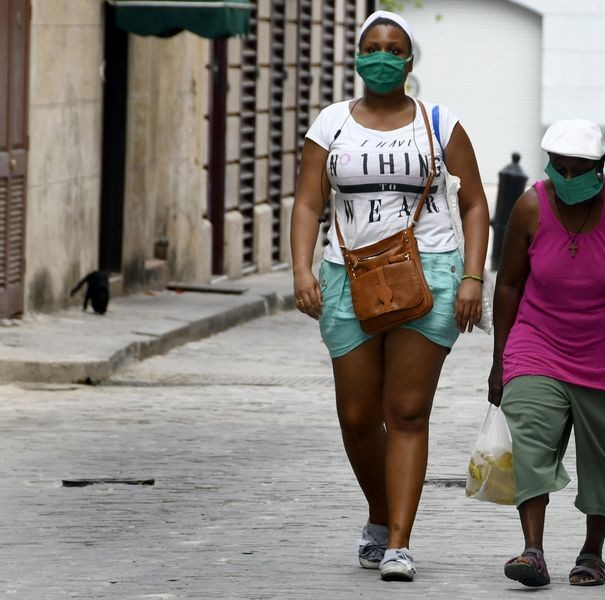with_mask: (536, 133, 605, 217), (353, 17, 423, 95)
